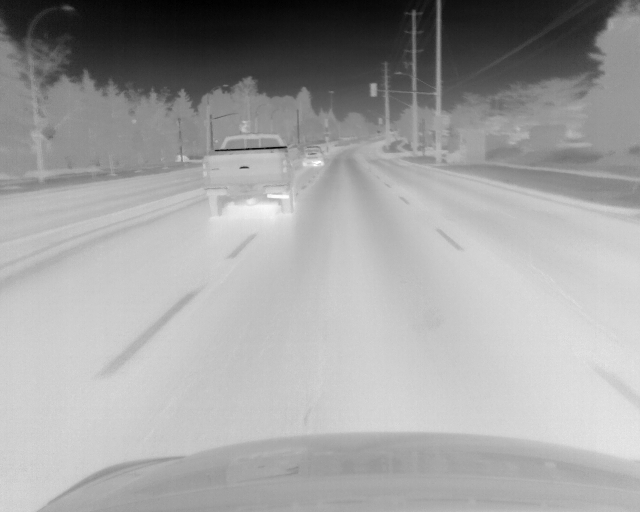car: (202, 133, 295, 216), (301, 145, 326, 166)
